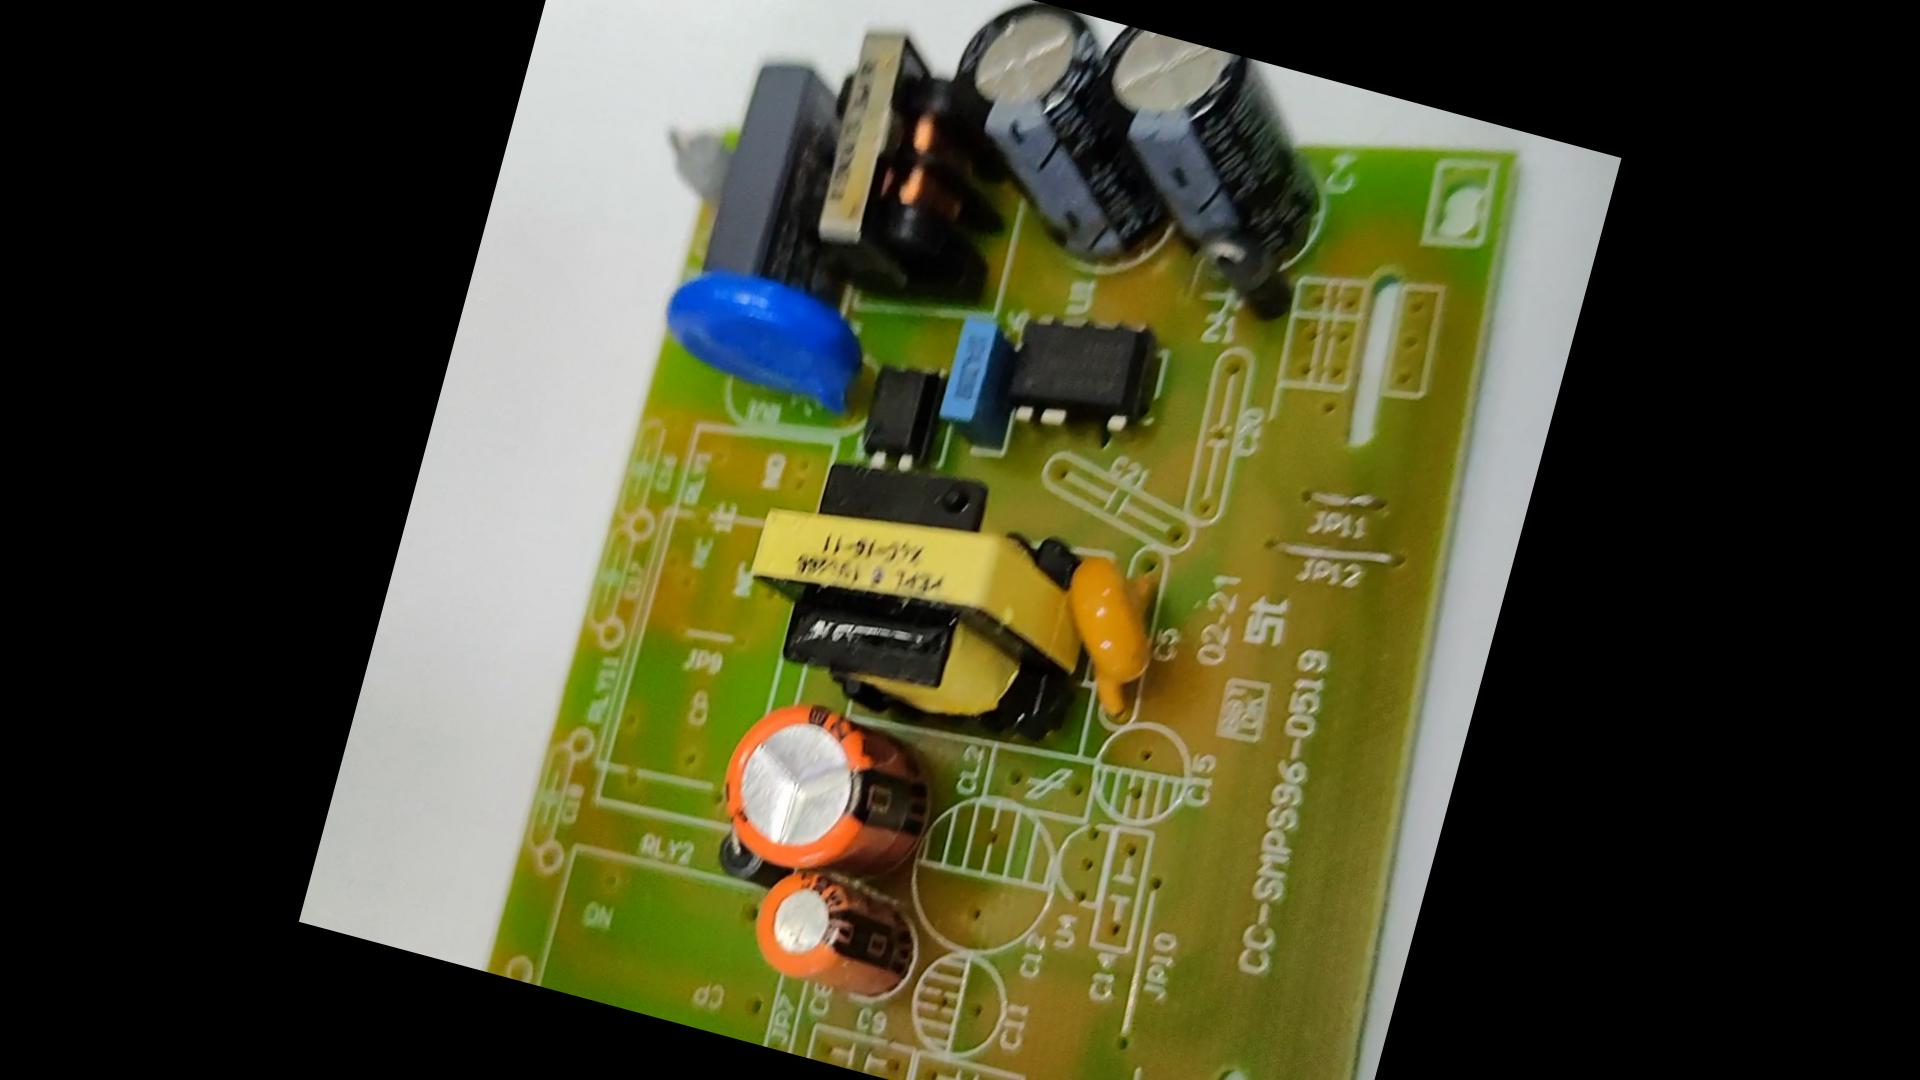Cap1: (698, 678, 960, 905)
Cap2: (732, 852, 944, 1009)
Cap3: (945, 0, 1129, 253)
Cap4: (1060, 22, 1365, 301)
MOSFET: (992, 286, 1174, 467)
Mov: (642, 249, 890, 433)
Resistor: (651, 99, 745, 211)
Transformer: (720, 455, 1112, 758), (800, 17, 982, 289)
